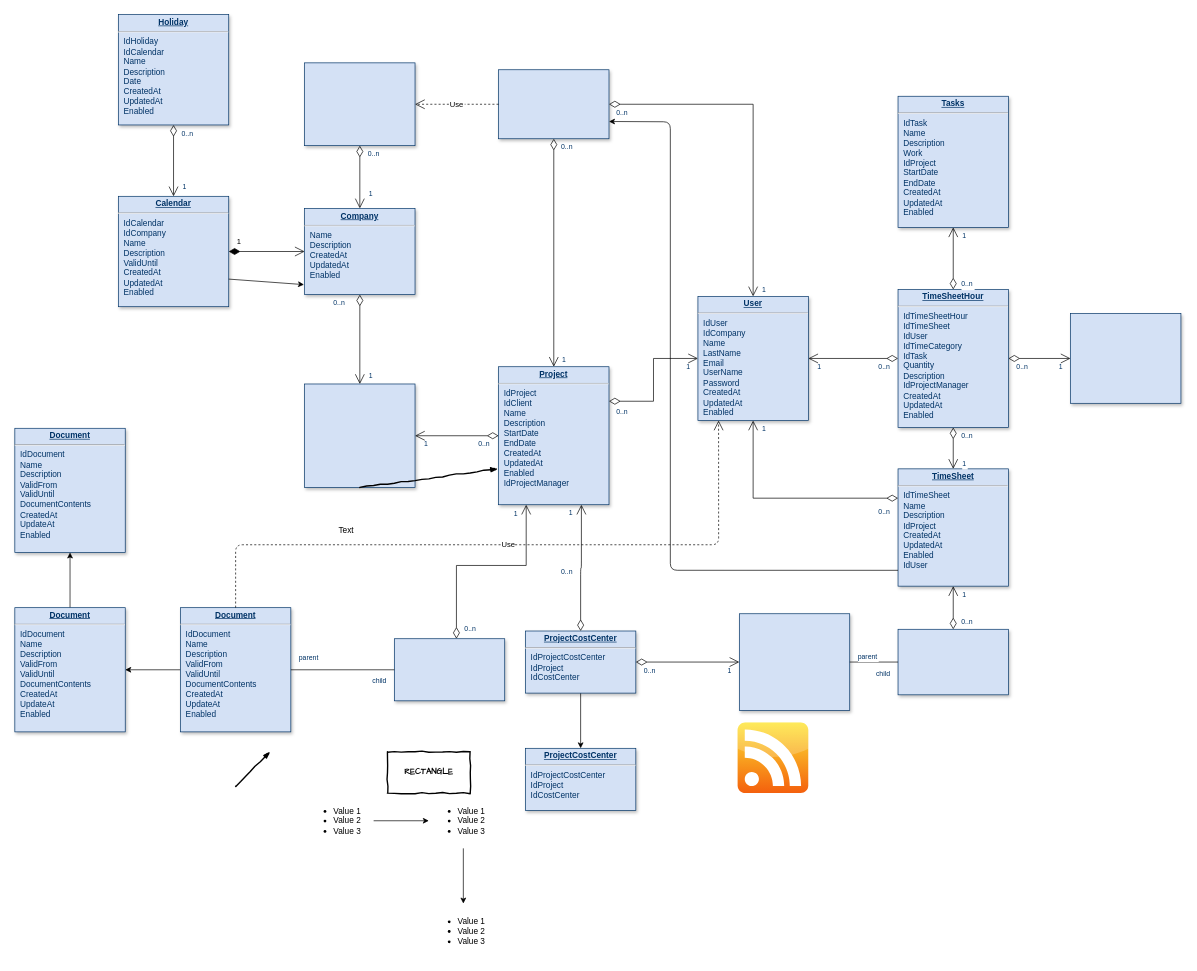
Some shapes in this 1197 by 971 pixel diagram are drawn without their labels. Here are the shapes that lost their labels. From the top down, the centre of each, then its label:
(x=360, y=104): aaaa IdCompany Name Description CreatedAt UpdatedAt Enabled
(x=554, y=105): ddddd IdUser
(x=1126, y=359): TimeCategory IdTimeCategory Name Description CreatedAt UpdatedAt Enabled
(x=360, y=436): Client IdClient IdCompany Name Description CreatedAt UpdatedAt Enabled
(x=450, y=670): ProjectDocument IdProjectDocument IdProject IdDocument
(x=795, y=662): CostCenter IdCostCenter Name Description CreatedAt UpdatedAt Enabled
(x=954, y=663): TimeSheetCostCenter IdTimeSheetCostCenter IdTimeSheet IdCostCenter
